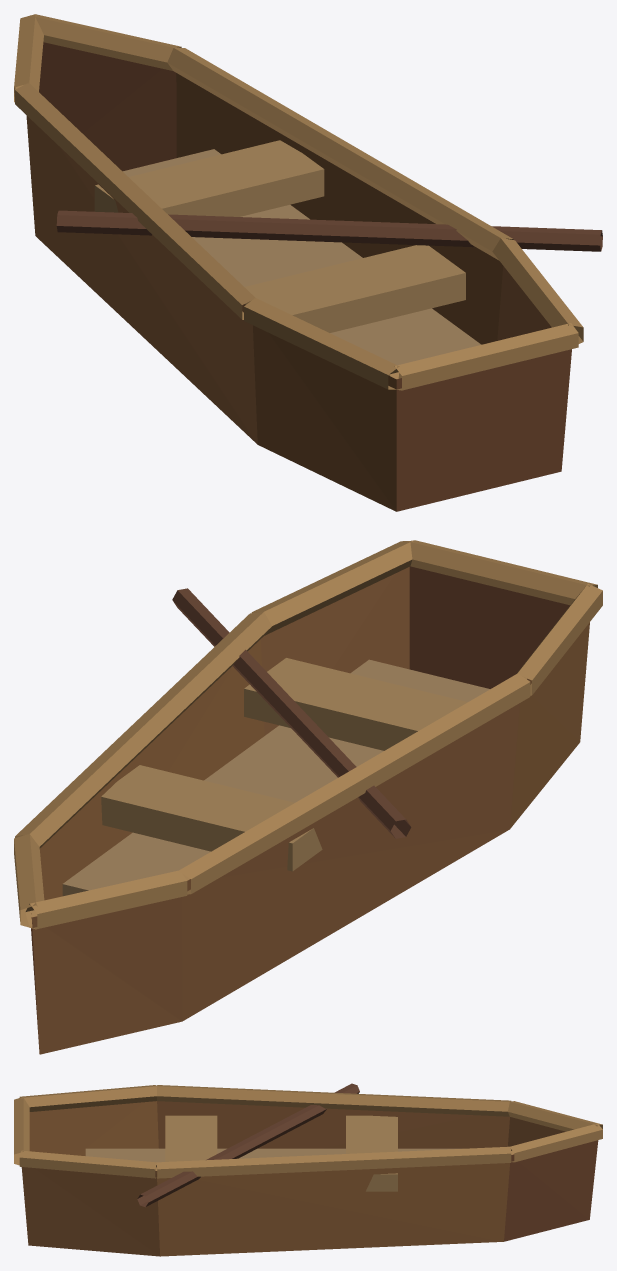
3 views of the same model, one above another, from view 1: azimuth 30°, elevation 25°; view 2: azimuth 150°, elevation 25°; view 3: azimuth 270°, elevation 25° (orthographic). The views are drawn at different scales.
Visible parts, largest first — view 1: H08_狭长独木舟; view 2: H08_狭长独木舟; view 3: H08_狭长独木舟.
Part boxes in pixels (<box>): H08_狭长独木舟: <box>14,14,602,511</box>; H08_狭长独木舟: <box>14,540,602,1054</box>; H08_狭长独木舟: <box>14,1083,602,1256</box>.
Bounding box in the file's own units: 0.8243 × 0.3038 × 1.7.
